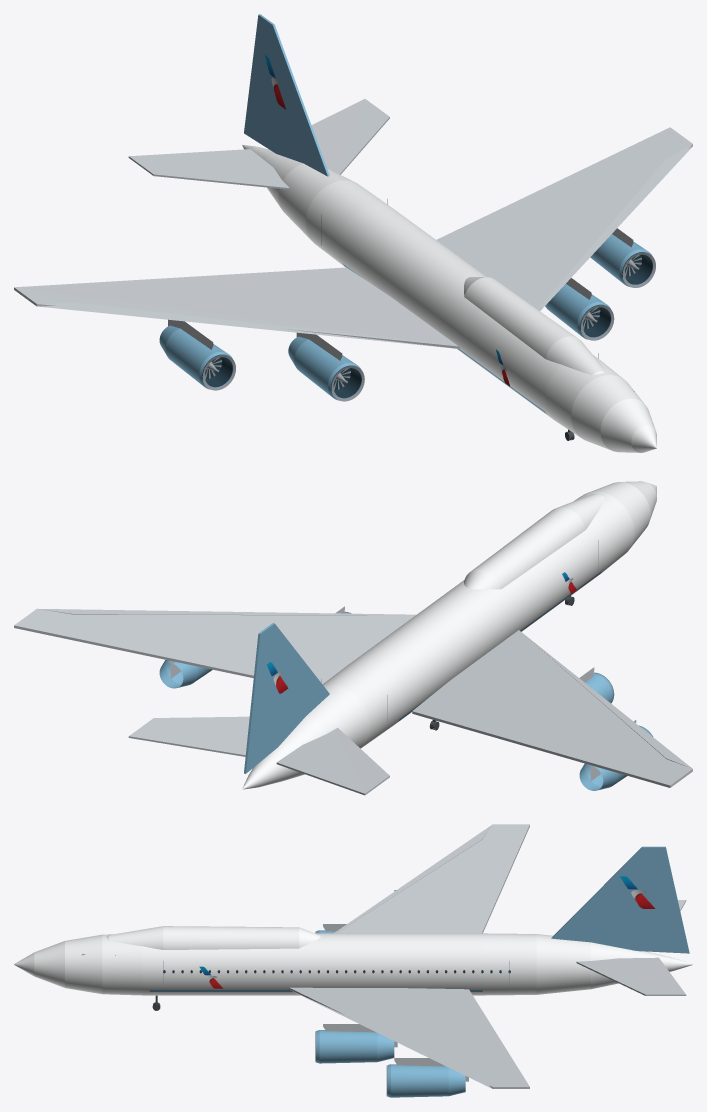
Rendered from b747-AAL-v4.gltf.
3 renders of one model, top to bottom at view 1: azimuth 30°, elevation 25°; view 2: azimuth 150°, elevation 25°; view 3: azimuth 270°, elevation 25°, orthographic. The views are drawn at different scales.
Visible parts, largest first — view 1: object 1; view 2: object 1; view 3: object 1.
Boxes of the visible parts, left/top/right/bottom form: object 1: left=14, top=14, right=692, bottom=452; object 1: left=14, top=481, right=692, bottom=795; object 1: left=14, top=824, right=692, bottom=1097.
Size of the model in its own units: 65 by 19.04 by 71.
Materials: 8 (1 with a texture image).
